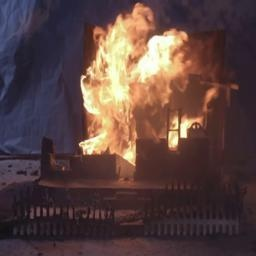fire: (65, 8, 231, 179)
